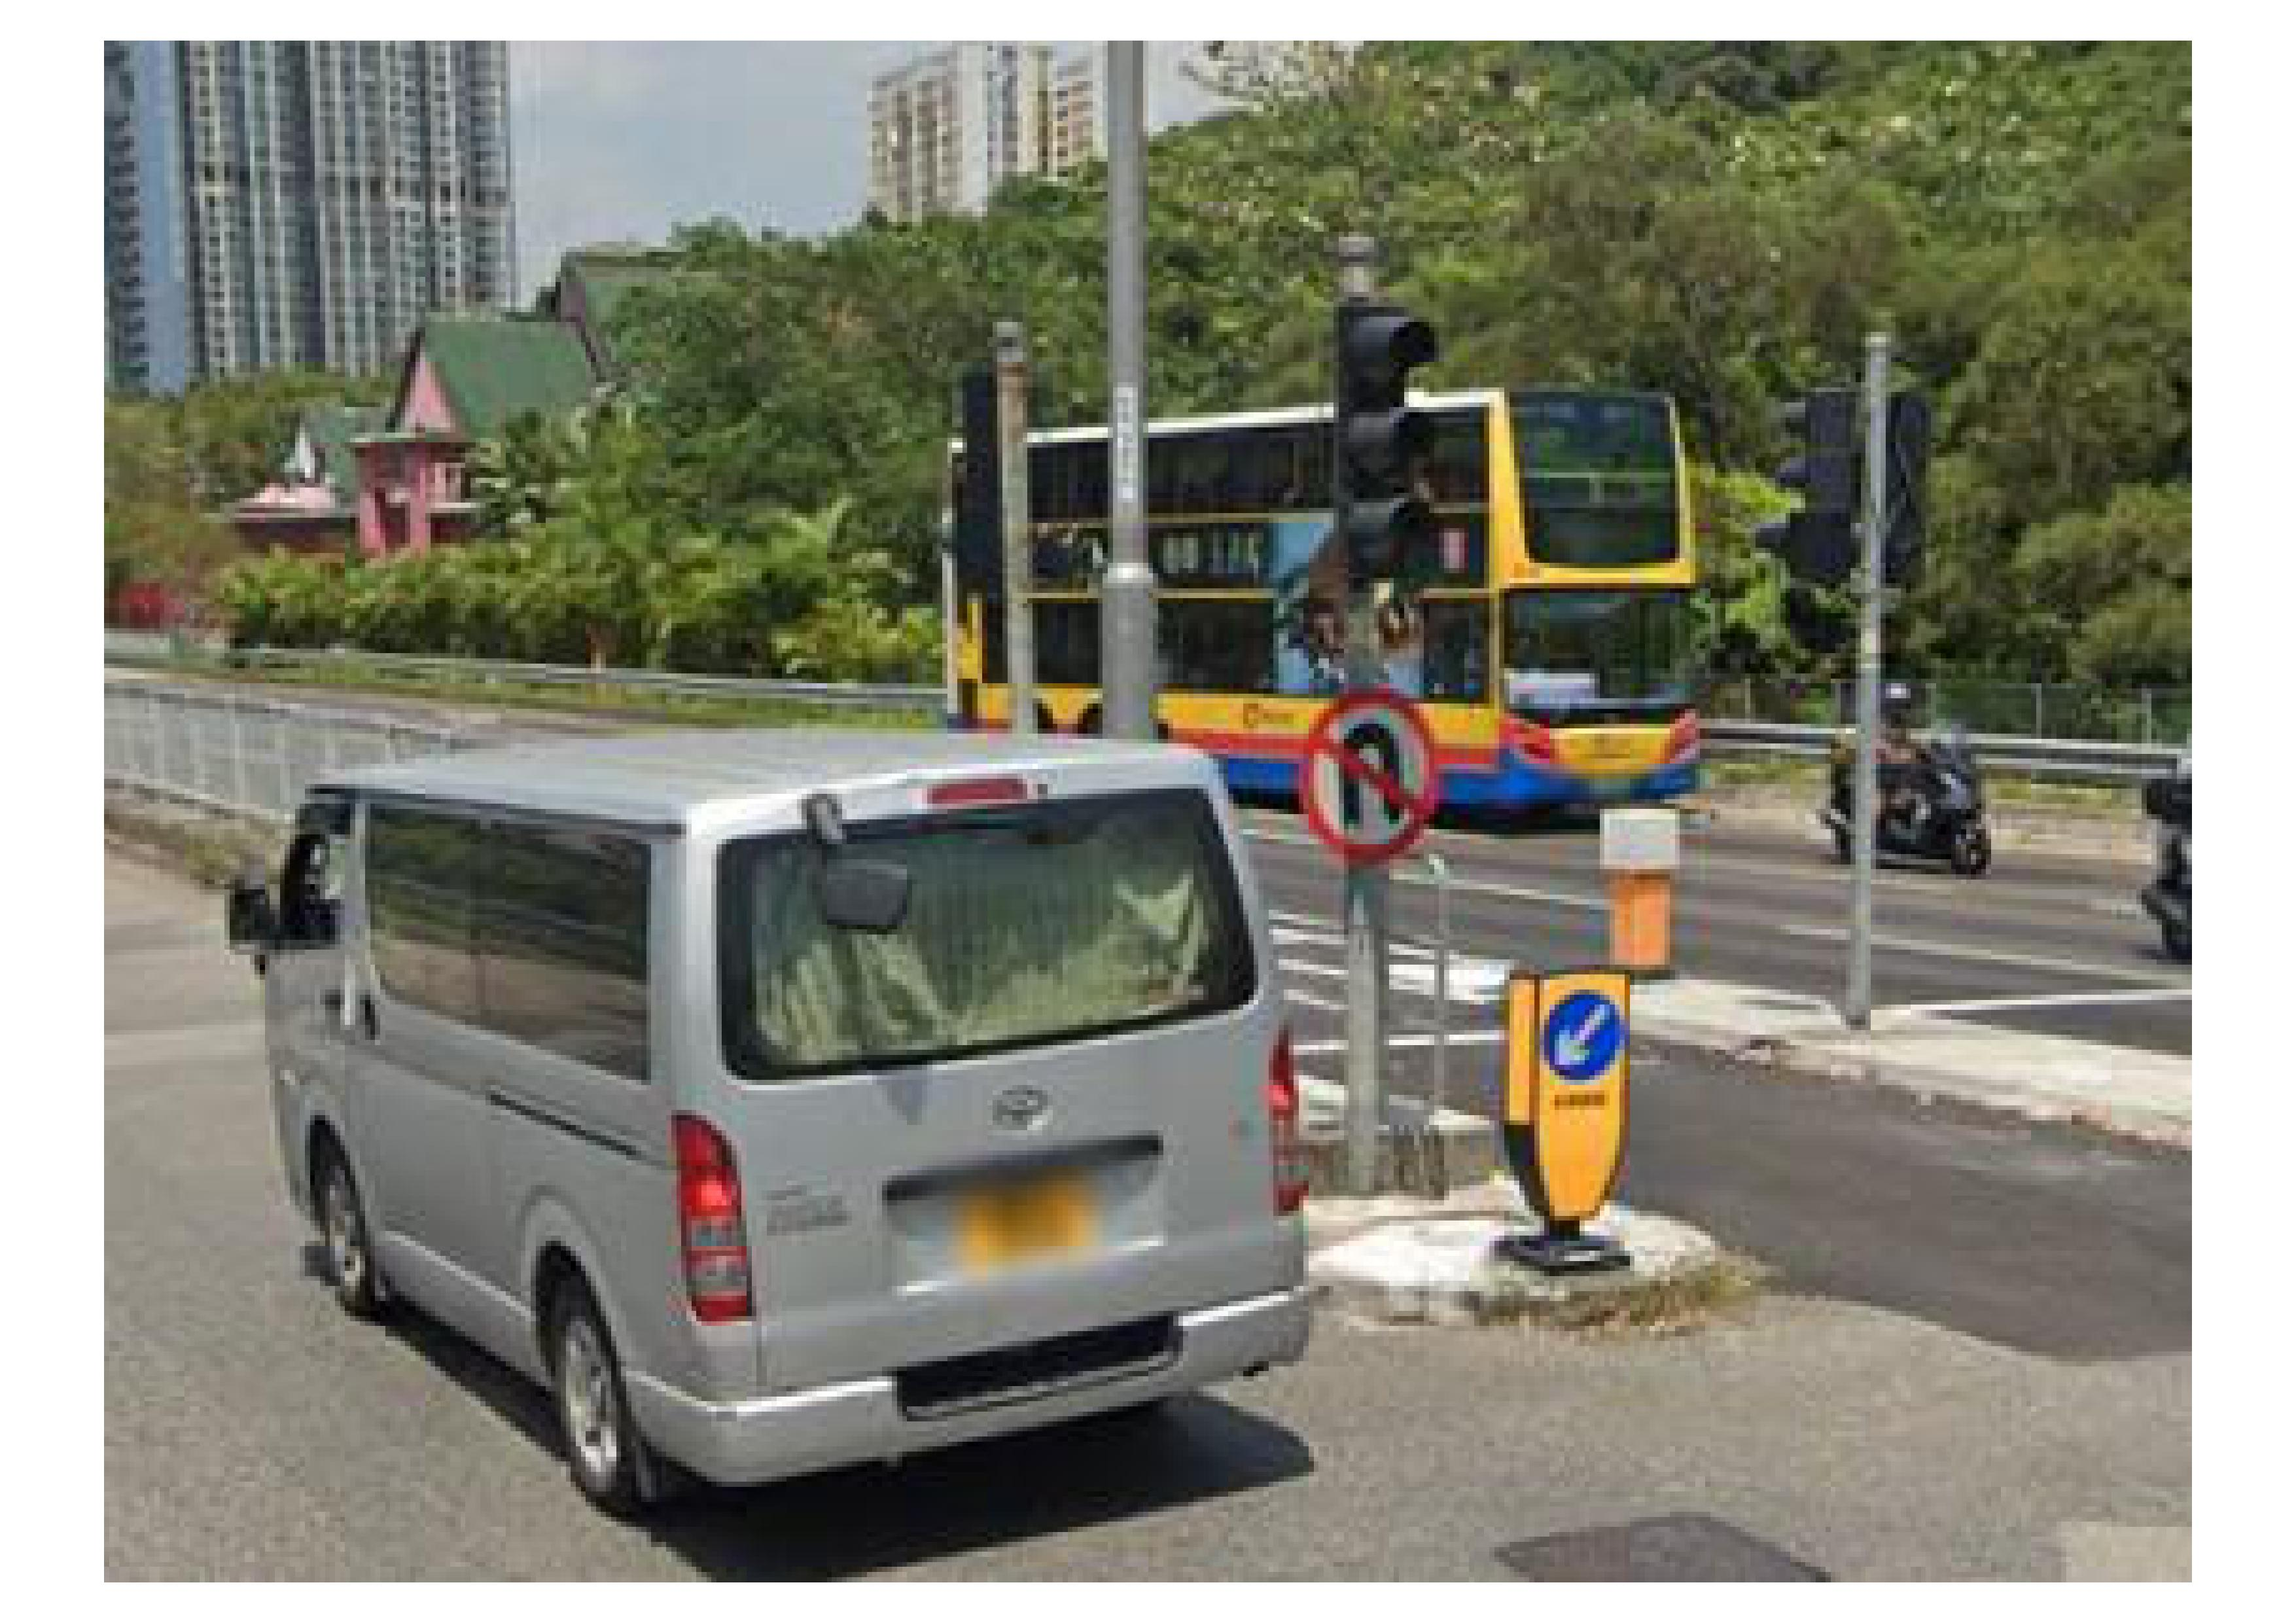No Uturn: (1288, 690, 1457, 859)
